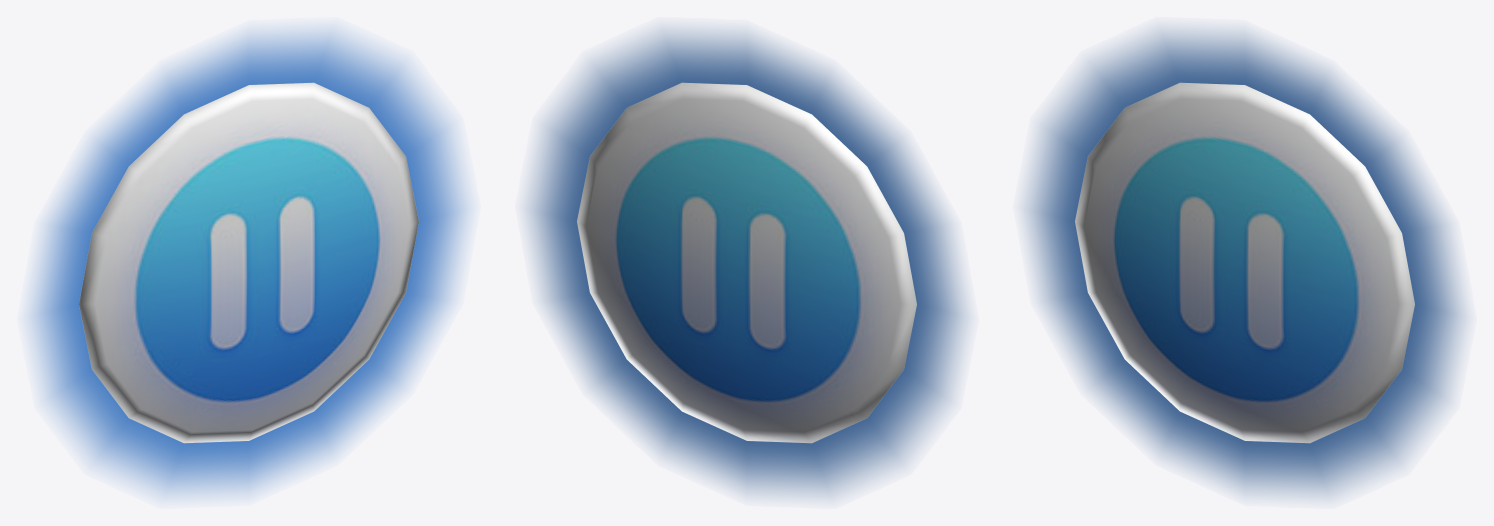
File: minjingzhiqin_tb.65764c0.glb
The picture shows the model from 3 angles, left to right: view 1: azimuth 30°, elevation 25°; view 2: azimuth 150°, elevation 25°; view 3: azimuth 330°, elevation 25°; orthographic projection.
Visible parts, largest first — view 1: 状态图标010; view 2: 状态图标010; view 3: 状态图标010.
Part boxes in pixels (left/top/right/bottom): 状态图标010: left=28, top=29, right=469, bottom=496; 状态图标010: left=526, top=29, right=967, bottom=496; 状态图标010: left=1024, top=29, right=1465, bottom=496.
Bounding box in the file's own units: 0.8291 × 0.8291 × 0.09.
Materials: 2 (2 with a texture image).
